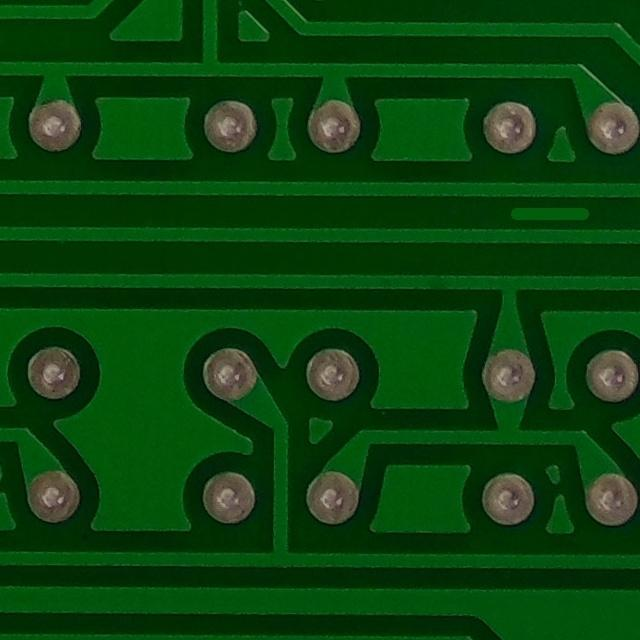spurious_copper: (486, 190, 611, 241)
